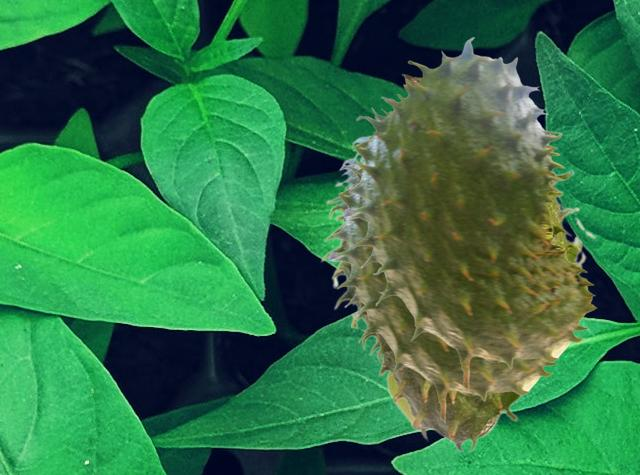guyabano: (320, 115, 596, 452), (343, 37, 596, 391), (328, 157, 557, 422)
